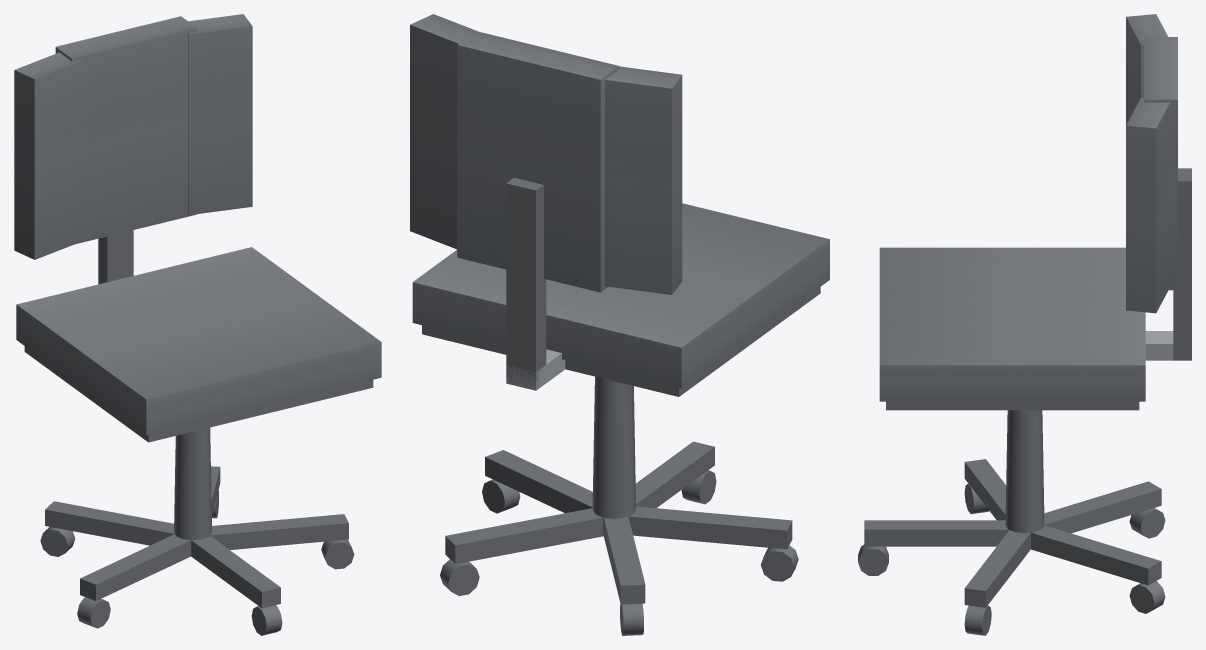
File: chair_office.glb
The picture shows the model from 3 angles, left to right: view 1: azimuth 30°, elevation 25°; view 2: azimuth 150°, elevation 25°; view 3: azimuth 270°, elevation 25°; orthographic projection. The views are drawn at different scales.
Visible parts, largest first — view 1: chair_office; view 2: chair_office; view 3: chair_office.
Part boxes in pixels (box(x1,y1,x2,y2)): chair_office: box(14, 14, 381, 635); chair_office: box(410, 14, 829, 635); chair_office: box(858, 14, 1191, 635).
Size of the model in its own units: 0.5228 by 0.8988 by 0.54.
Materials: 3 (1 with a texture image).
